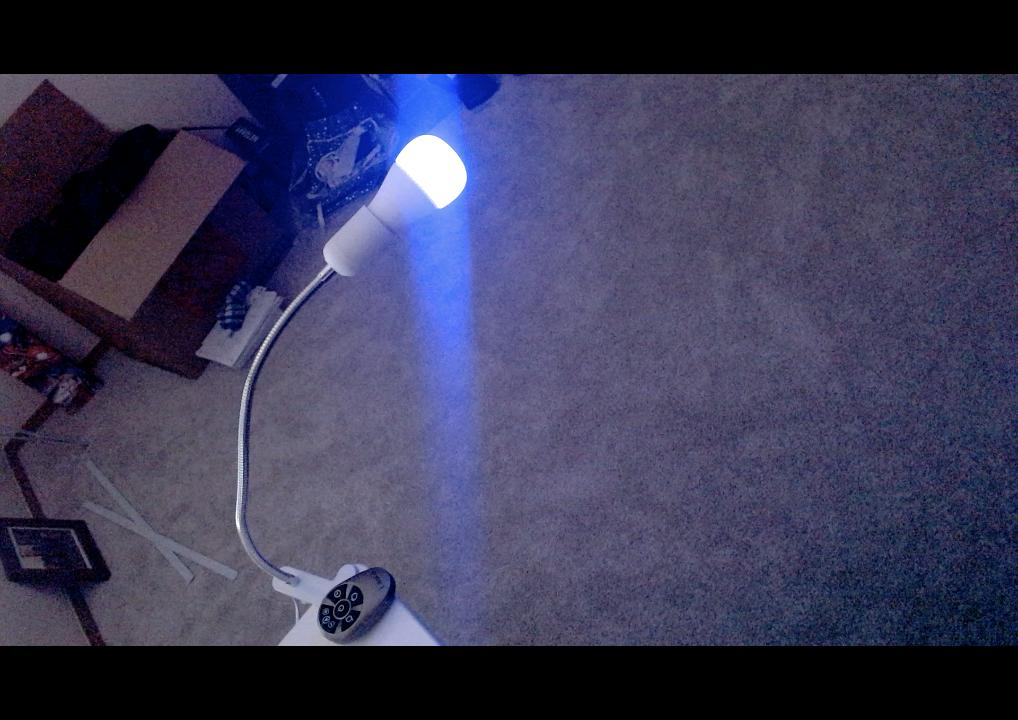TubeLight: (366, 133, 466, 228)
